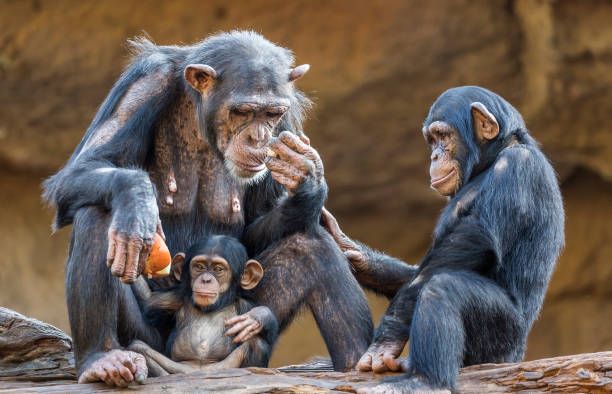chimpanzee: (180, 13, 311, 194), (400, 57, 531, 208), (163, 224, 263, 316)
